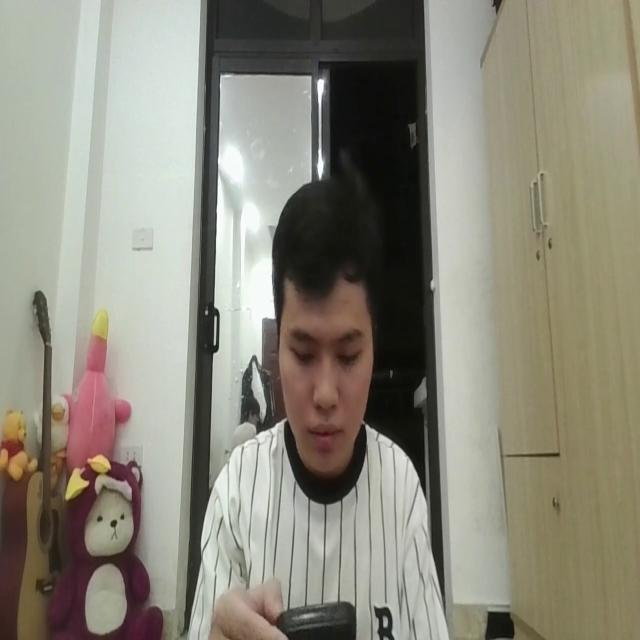phone: (272, 593, 360, 640)
student: (196, 170, 449, 640)
